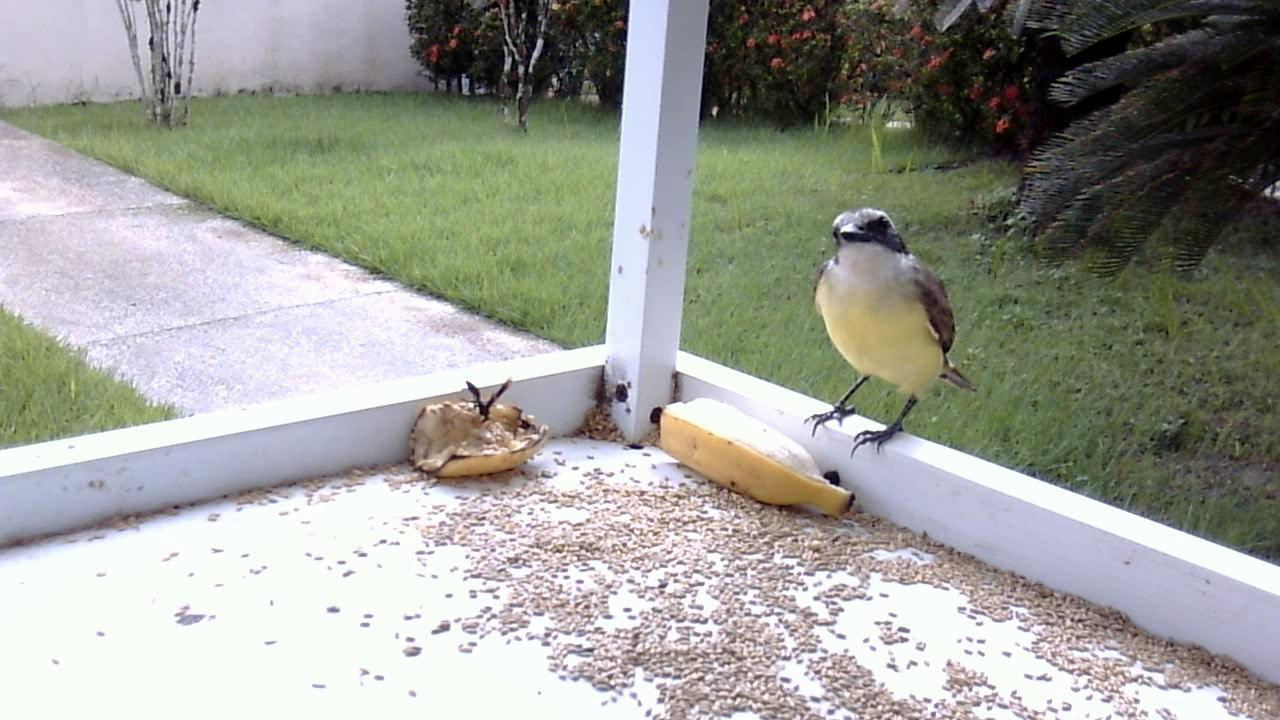bem_te_vi: (792, 198, 985, 475)
